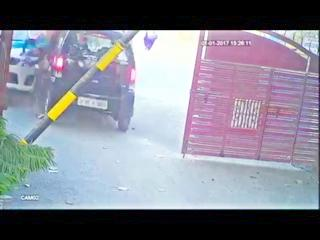Car: (40, 31, 132, 134), (0, 31, 41, 100)
Major Accident: (0, 31, 136, 134)
